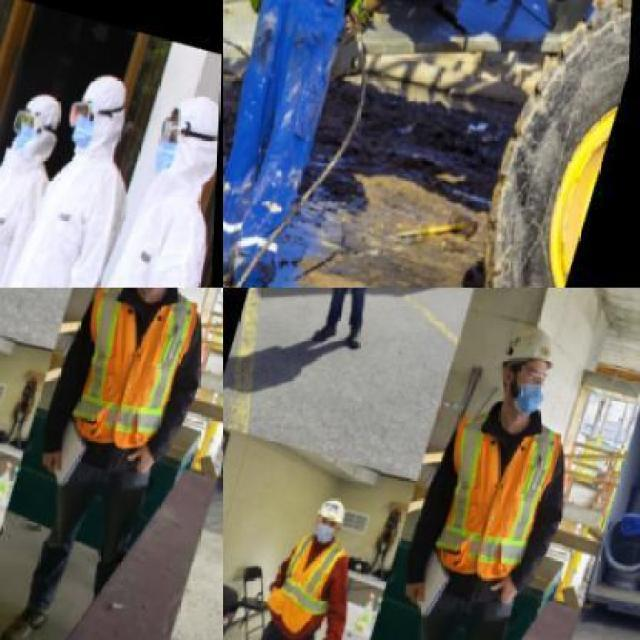hat: (490, 314, 568, 389), (316, 489, 356, 526)
